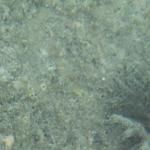dead: (1, 4, 142, 140)
